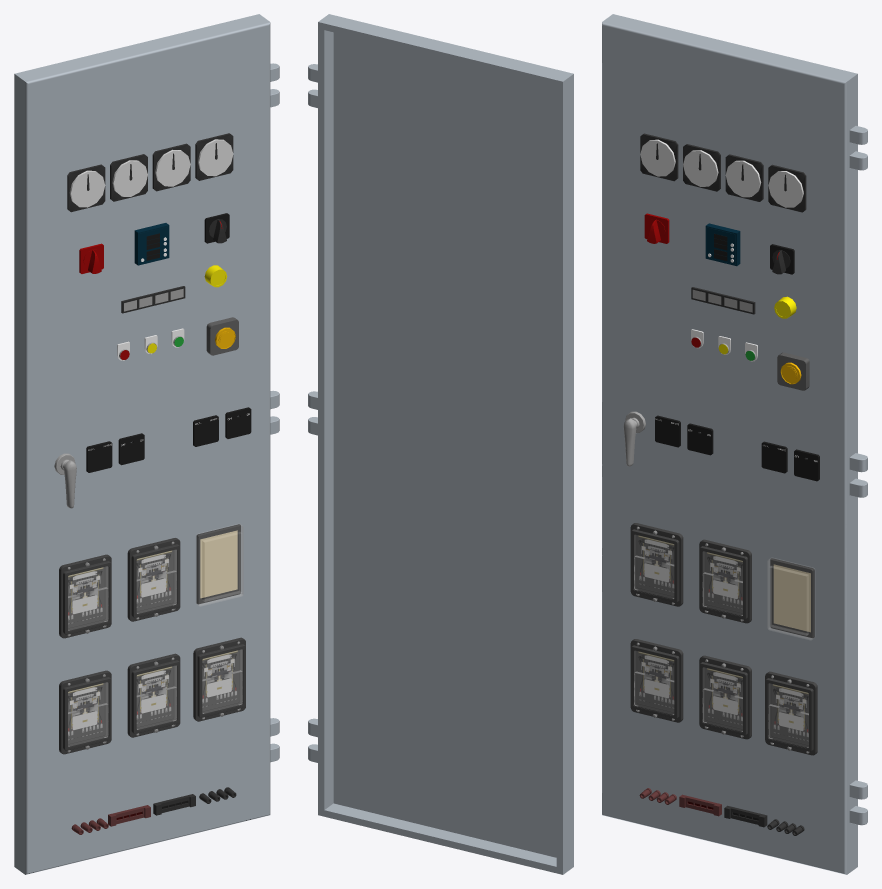
The model's file is ACB_front_DOOR.fbx.
3 renders of one model, left to right at view 1: azimuth 30°, elevation 25°; view 2: azimuth 150°, elevation 25°; view 3: azimuth 330°, elevation 25°, orthographic.
Visible parts, largest first — view 1: abc_main_door; view 2: abc_main_door; view 3: abc_main_door.
Part boxes in pixels (x1,y1,x2,y2): abc_main_door: [14, 14, 279, 874]; abc_main_door: [308, 14, 573, 874]; abc_main_door: [602, 14, 867, 874].
Size of the model in its own units: 0.6334 by 1.85 by 0.0934.
9 materials, 8 textured.
